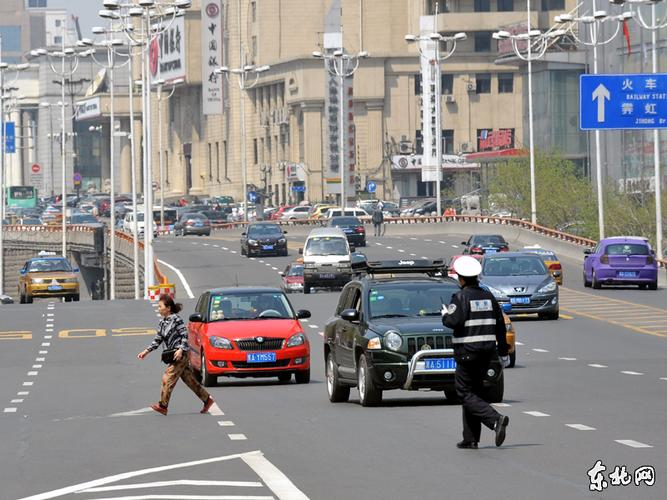bus: (4, 186, 38, 209)
car: (323, 272, 485, 405), (187, 287, 313, 386), (478, 252, 560, 321), (582, 236, 660, 290), (299, 227, 353, 292), (17, 256, 82, 304), (239, 222, 289, 257), (517, 248, 563, 285), (324, 215, 367, 246), (461, 233, 510, 256), (174, 213, 212, 237), (280, 206, 315, 224)
person: (441, 263, 512, 457), (137, 295, 222, 417), (371, 201, 385, 237)
sign: (579, 72, 667, 130), (122, 210, 158, 236), (0, 119, 17, 154), (365, 181, 377, 192), (291, 185, 306, 193), (150, 180, 160, 192), (71, 174, 82, 184), (31, 163, 41, 173), (248, 191, 256, 203)
